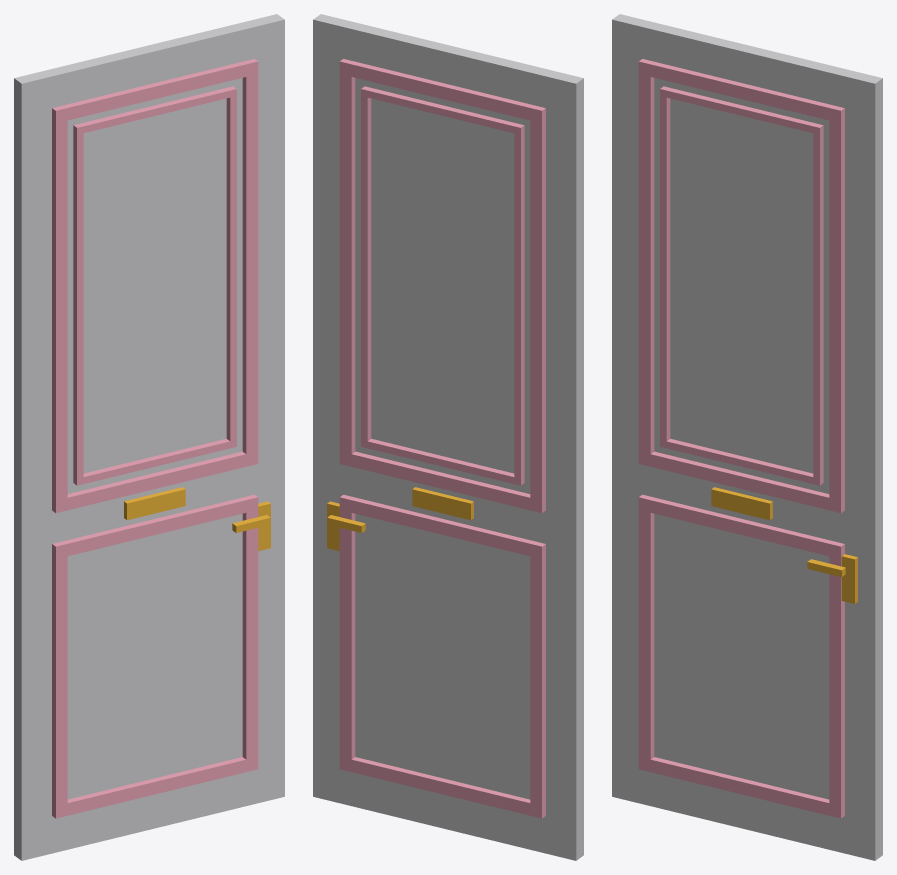
Rendered from SM_Door_girls_100x280.fbx.
The picture shows the model from 3 angles, left to right: view 1: azimuth 30°, elevation 25°; view 2: azimuth 150°, elevation 25°; view 3: azimuth 330°, elevation 25°; orthographic projection.
Parts seen in each view (by area): view 1: SM_Door_girls_100x280; view 2: SM_Door_girls_100x280; view 3: SM_Door_girls_100x280.
Part boxes in pixels (left/top/right/bottom): SM_Door_girls_100x280: left=14, top=14, right=284, bottom=860; SM_Door_girls_100x280: left=313, top=14, right=583, bottom=860; SM_Door_girls_100x280: left=612, top=14, right=882, bottom=860.
Bounding box in the file's own units: 0.988 × 2.79 × 0.175.
